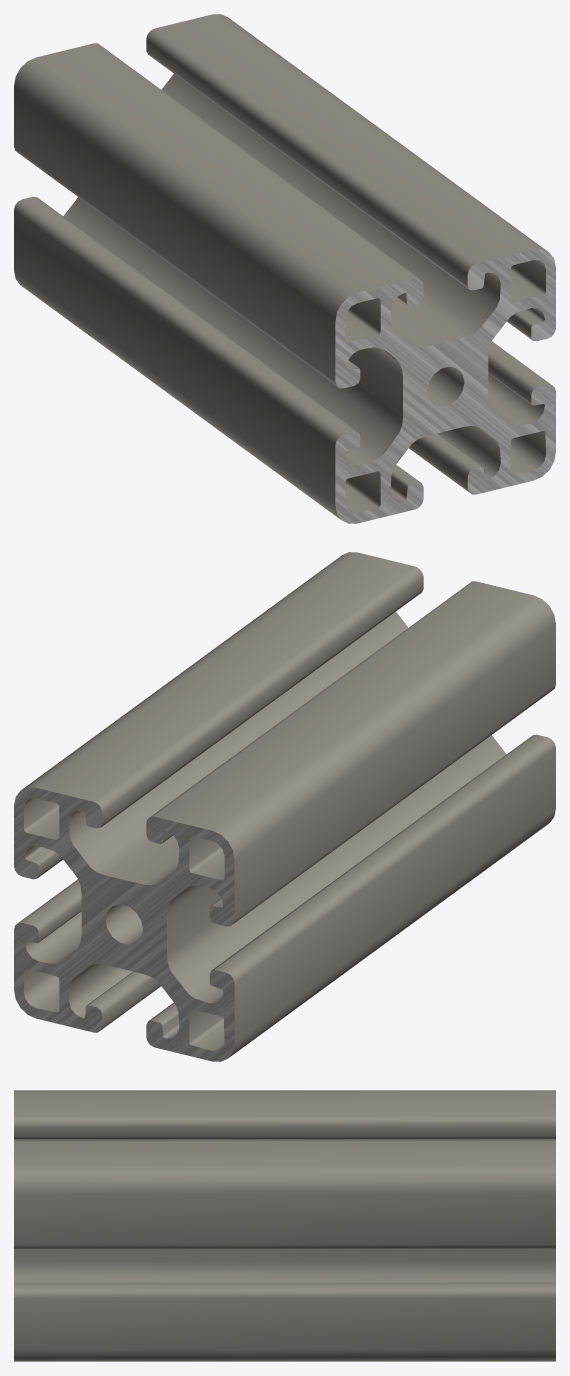
Rendered from item-profile-low.glb.
3 views of the same model, one above another, from view 1: azimuth 30°, elevation 25°; view 2: azimuth 150°, elevation 25°; view 3: azimuth 270°, elevation 25° (orthographic). The views are drawn at different scales.
Visible parts, largest first — view 1: item_0002633_Profil_8_40x40_leicht_L=101_1; view 2: item_0002633_Profil_8_40x40_leicht_L=101_1; view 3: item_0002633_Profil_8_40x40_leicht_L=101_1.
Boxes of the visible parts, x1,y1,x2,y2 form: item_0002633_Profil_8_40x40_leicht_L=101_1: [14, 14, 555, 523]; item_0002633_Profil_8_40x40_leicht_L=101_1: [14, 552, 555, 1061]; item_0002633_Profil_8_40x40_leicht_L=101_1: [14, 1090, 555, 1361].
Size of the model in its own units: 0.04 by 0.04 by 0.101.
Materials: 2 (1 with a texture image).
